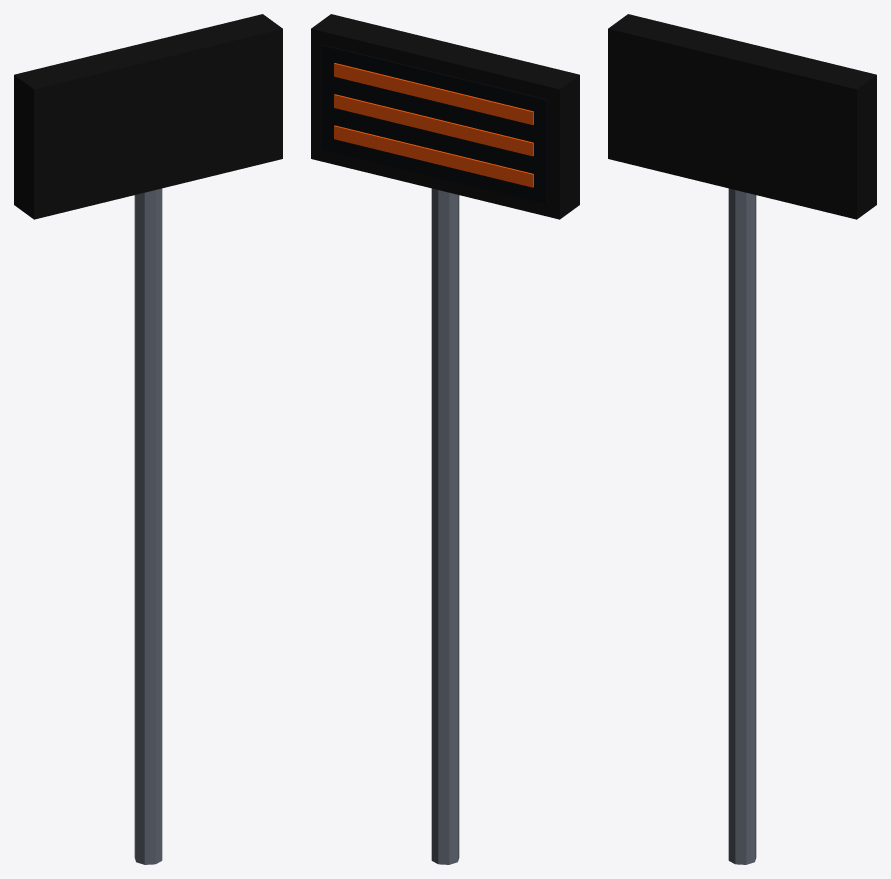
Rendered from station.bus.stand_display.glb.
3 renders of one model, left to right at view 1: azimuth 30°, elevation 25°; view 2: azimuth 150°, elevation 25°; view 3: azimuth 330°, elevation 25°, orthographic.
Parts seen in each view (by area): view 1: main__plastic_black, main__steel_painted; view 2: main__steel_painted, main__plastic_black, main__screen, main__hivis_orange; view 3: main__plastic_black, main__steel_painted.
Boxes of the visible parts, x1=… form: main__plastic_black: x1=14, y1=14, x2=282, y2=219; main__steel_painted: x1=134, y1=188, x2=162, y2=864; main__steel_painted: x1=431, y1=188, x2=459, y2=864; main__plastic_black: x1=311, y1=14, x2=579, y2=219; main__screen: x1=322, y1=45, x2=547, y2=204; main__hivis_orange: x1=334, y1=63, x2=533, y2=187; main__plastic_black: x1=608, y1=14, x2=876, y2=219; main__steel_painted: x1=728, y1=188, x2=756, y2=864.
Bounding box in the file's own units: 1 × 3.1 × 0.154.
